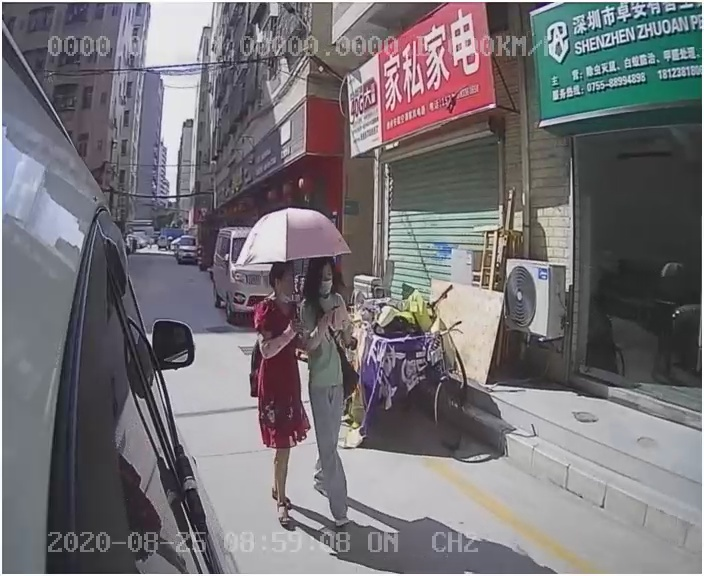person: (238, 262, 315, 531)
